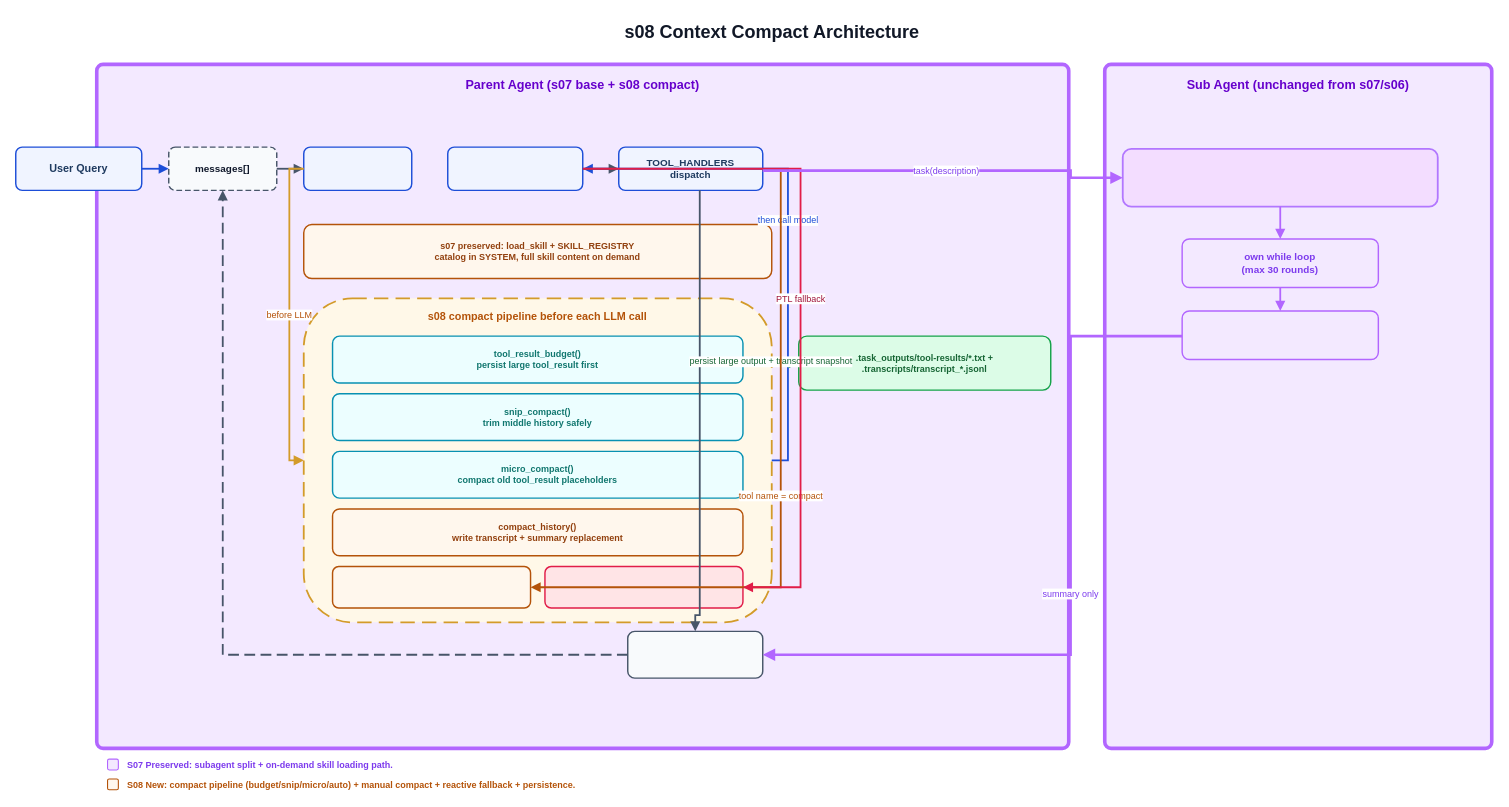
The diagram is 1509 pixels wide and 807 high, and some of its shapes have lost their labels. The centre of each missing label's shape, as x and y in pixels:
"agent_loop" belongs at (x=357, y=168).
"compact tool manual compact trigger" belongs at (x=431, y=586).
"LLM (content + stop_reason)" belongs at (x=515, y=168).
"reactive_compact() on PTL (retry limit = 1)" belongs at (x=643, y=586).
"SUB_SYSTEM + fresh messages[]" belongs at (x=1279, y=177).
"summary only back to parent" belongs at (x=1280, y=335).
"tool_result append to messages[]" belongs at (x=695, y=654).
